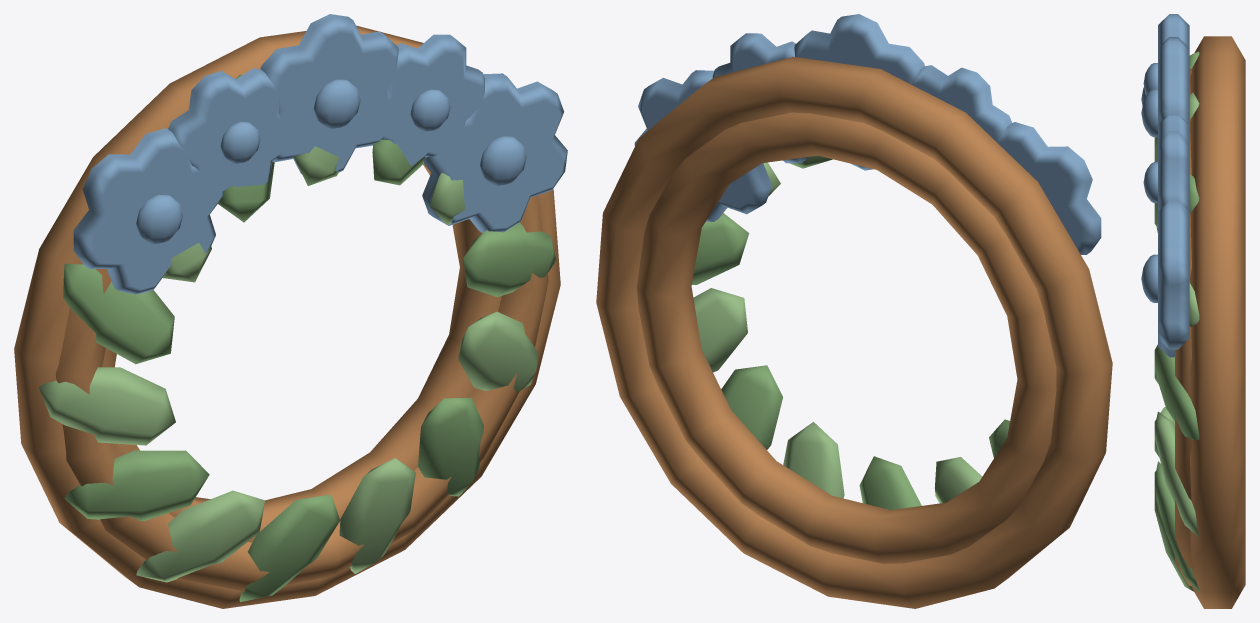
File: blue_rose_wreath.glb
The picture shows the model from 3 angles, left to right: view 1: azimuth 30°, elevation 25°; view 2: azimuth 150°, elevation 25°; view 3: azimuth 270°, elevation 25°; orthographic projection. The views are drawn at different scales.
Parts seen in each view (by area): view 1: blue_rose_wreath_mesh; view 2: blue_rose_wreath_mesh; view 3: blue_rose_wreath_mesh.
Boxes of the visible parts, x1=… form: blue_rose_wreath_mesh: x1=14, y1=14, x2=567, y2=608; blue_rose_wreath_mesh: x1=596, y1=14, x2=1112, y2=608; blue_rose_wreath_mesh: x1=1141, y1=14, x2=1245, y2=608.
Size of the model in its own units: 0.4519 by 0.4808 by 0.0827.
